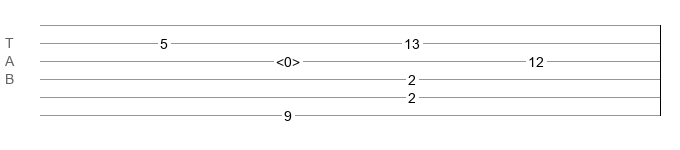12: (528, 54, 544, 64)
13: (404, 36, 420, 46)
2: (408, 90, 416, 100), (408, 72, 416, 82)
5: (160, 36, 168, 46)
9: (284, 108, 292, 118)
harmonic: (276, 54, 300, 64)
